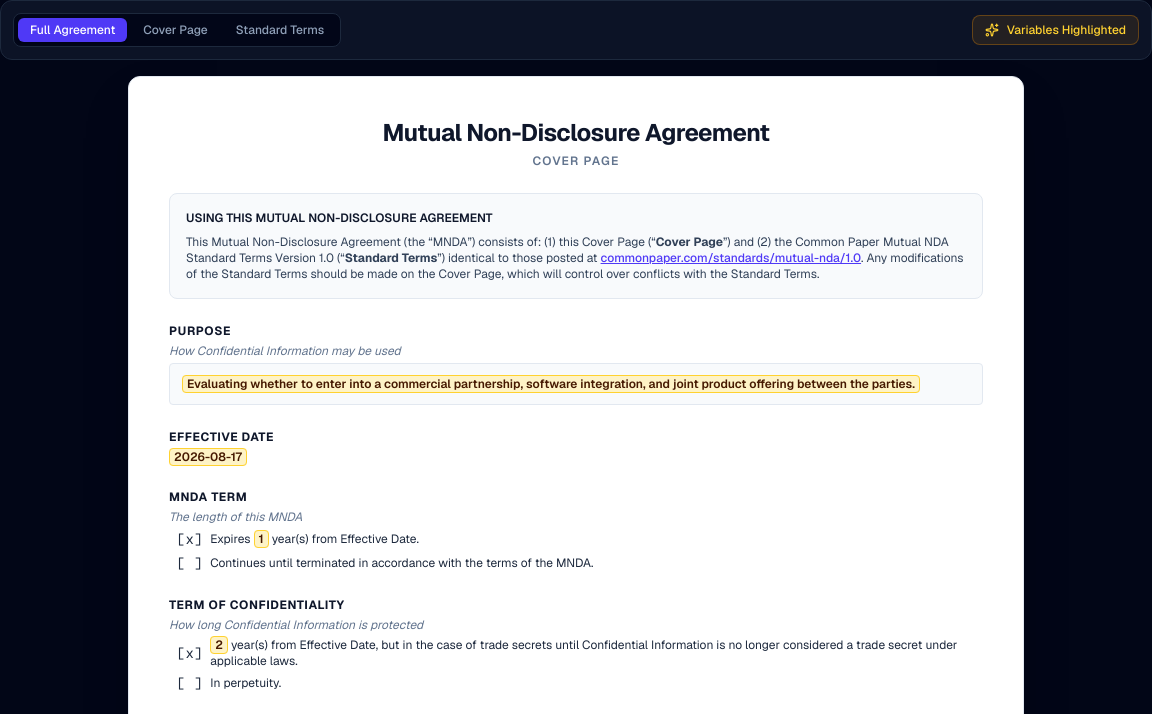
NDADocumentPreview Component › allows toggling between full agreement, cover page, and standard terms
What coordinates should you click on to do the following:
click the button "Cover Page"
I would click on:
 (176, 30)
Its box is top-left (131, 18), bottom-right (220, 42).
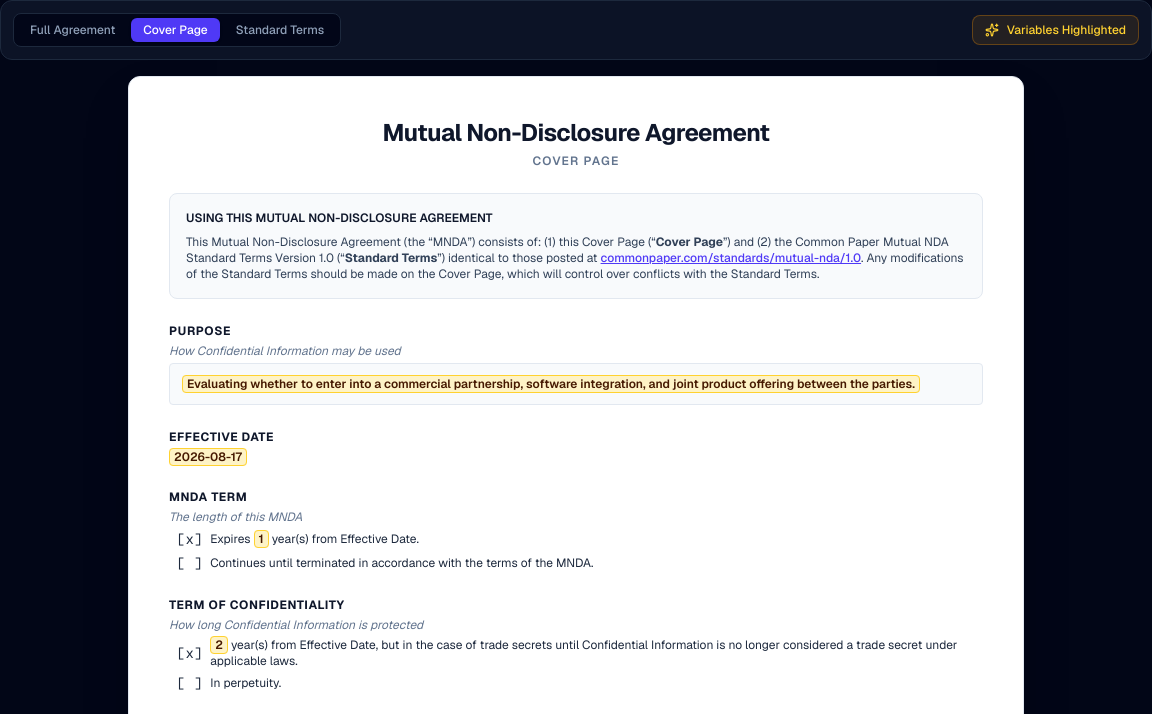
Check: the text "USING THIS MUTUAL NON-DISCLOSURE AGREEMENT" is shown, box top-left (186, 210), bottom-right (493, 226)
What coordinates should you click on to do the following:
click the button "Standard Terms"
I would click on:
 (280, 30)
Its box is top-left (224, 18), bottom-right (336, 42).
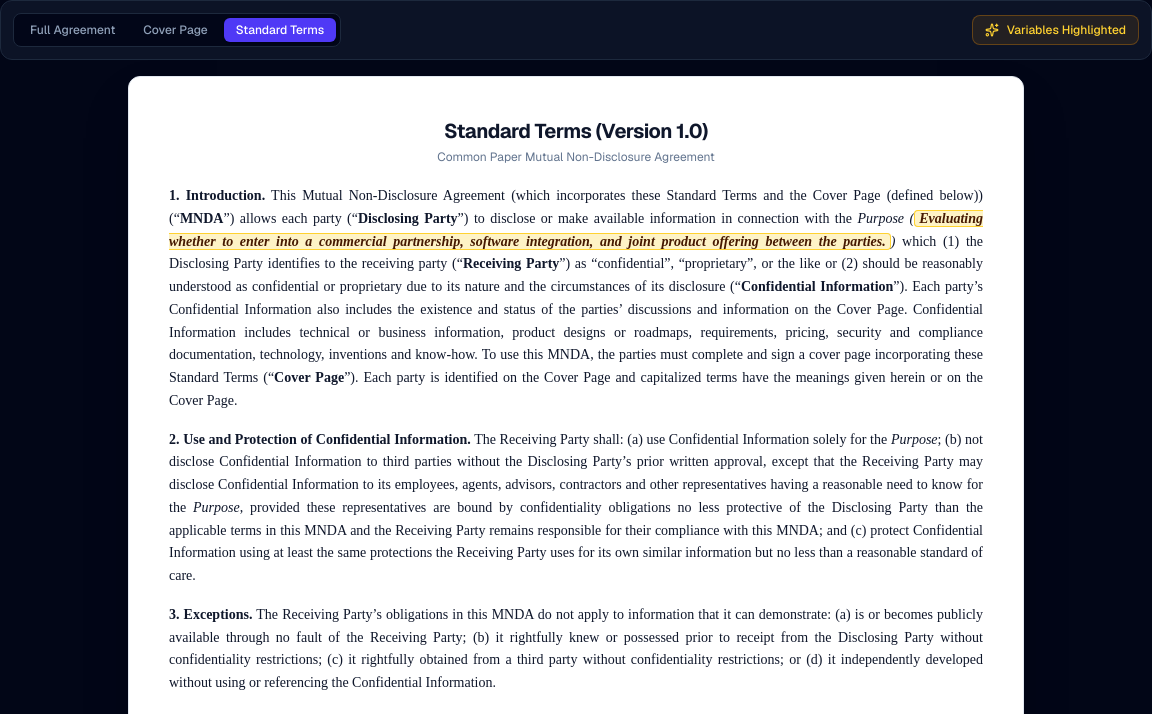
Check: the text "1. Introduction." is shown, box top-left (169, 188), bottom-right (265, 203)
